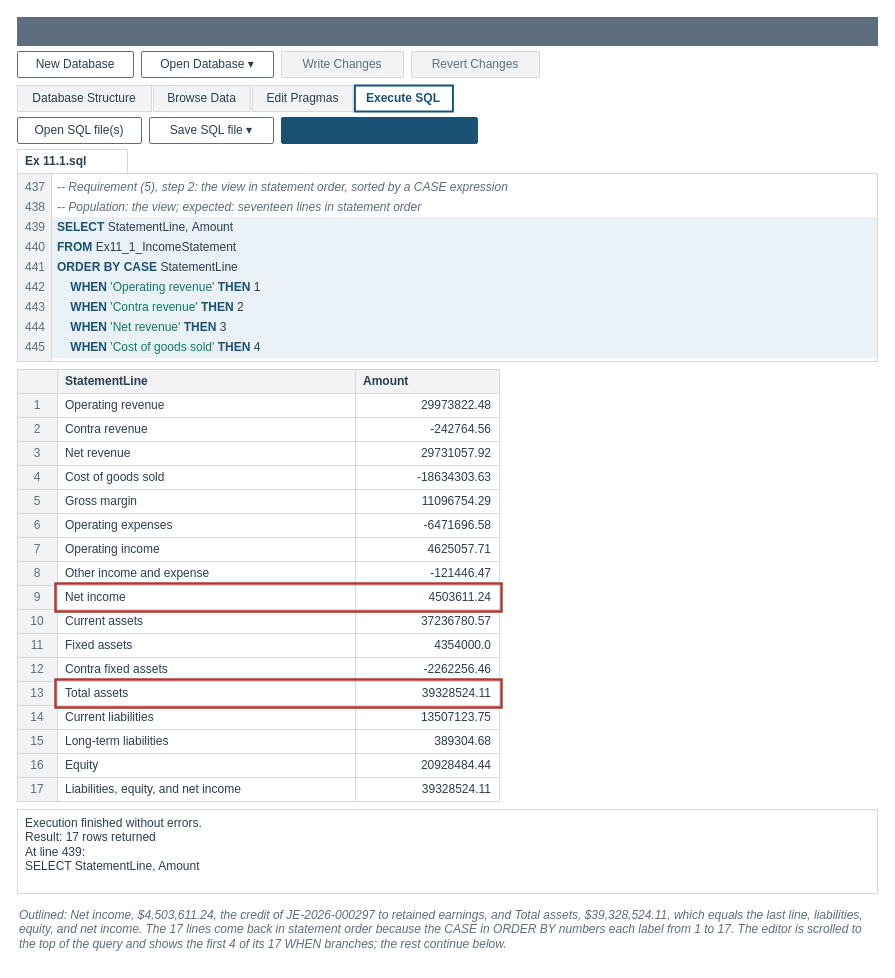
Image size: 895x978. Some labels were removed from this diagram. Here are the shapes that lost their labels. From the top down, the centre of each, then its label:
point 447,31: DB Browser for SQLite - C:\Users\you\Documents\CharlesRiver_Work.sqlite
point 379,130: ▶ Execute all/selected SQL
